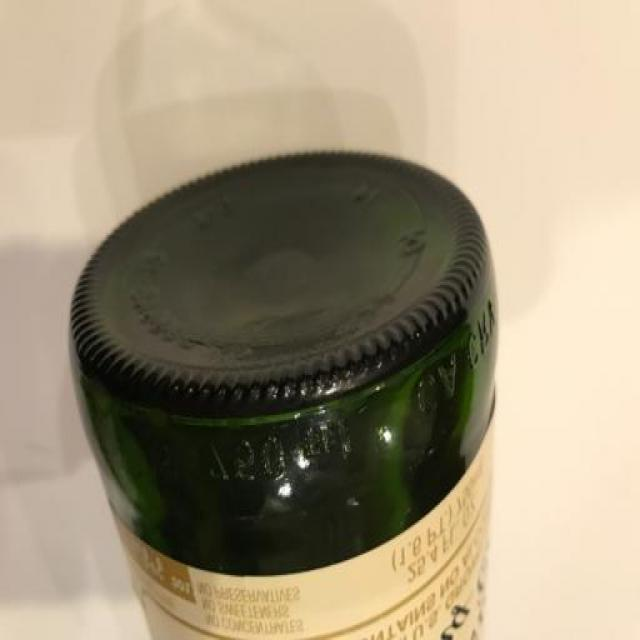glass: (64, 145, 498, 640)
